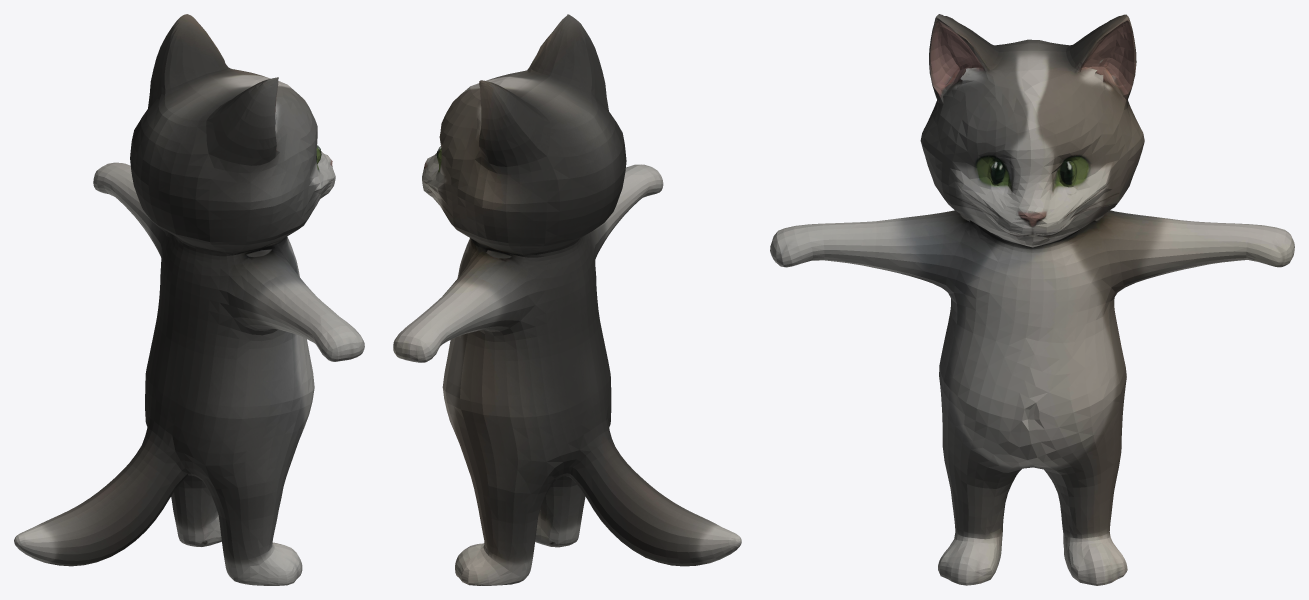
Rendered from modelomoshitoo.glb.
3 renders of one model, left to right at view 1: azimuth 30°, elevation 25°; view 2: azimuth 150°, elevation 25°; view 3: azimuth 270°, elevation 25°, orthographic. The views are drawn at different scales.
Parts seen in each view (by area): view 1: tripo_node_eb90995a-fadc-4303-9d6c-2707d3b81986; view 2: tripo_node_eb90995a-fadc-4303-9d6c-2707d3b81986; view 3: tripo_node_eb90995a-fadc-4303-9d6c-2707d3b81986.
Boxes of the visible parts, bbox=[...] form: tripo_node_eb90995a-fadc-4303-9d6c-2707d3b81986: bbox=[14, 14, 364, 585]; tripo_node_eb90995a-fadc-4303-9d6c-2707d3b81986: bbox=[393, 14, 741, 585]; tripo_node_eb90995a-fadc-4303-9d6c-2707d3b81986: bbox=[770, 14, 1294, 585].
Bounding box in the file's own units: 0.6426 × 0.9995 × 0.8625.
1 material, 1 textured.
